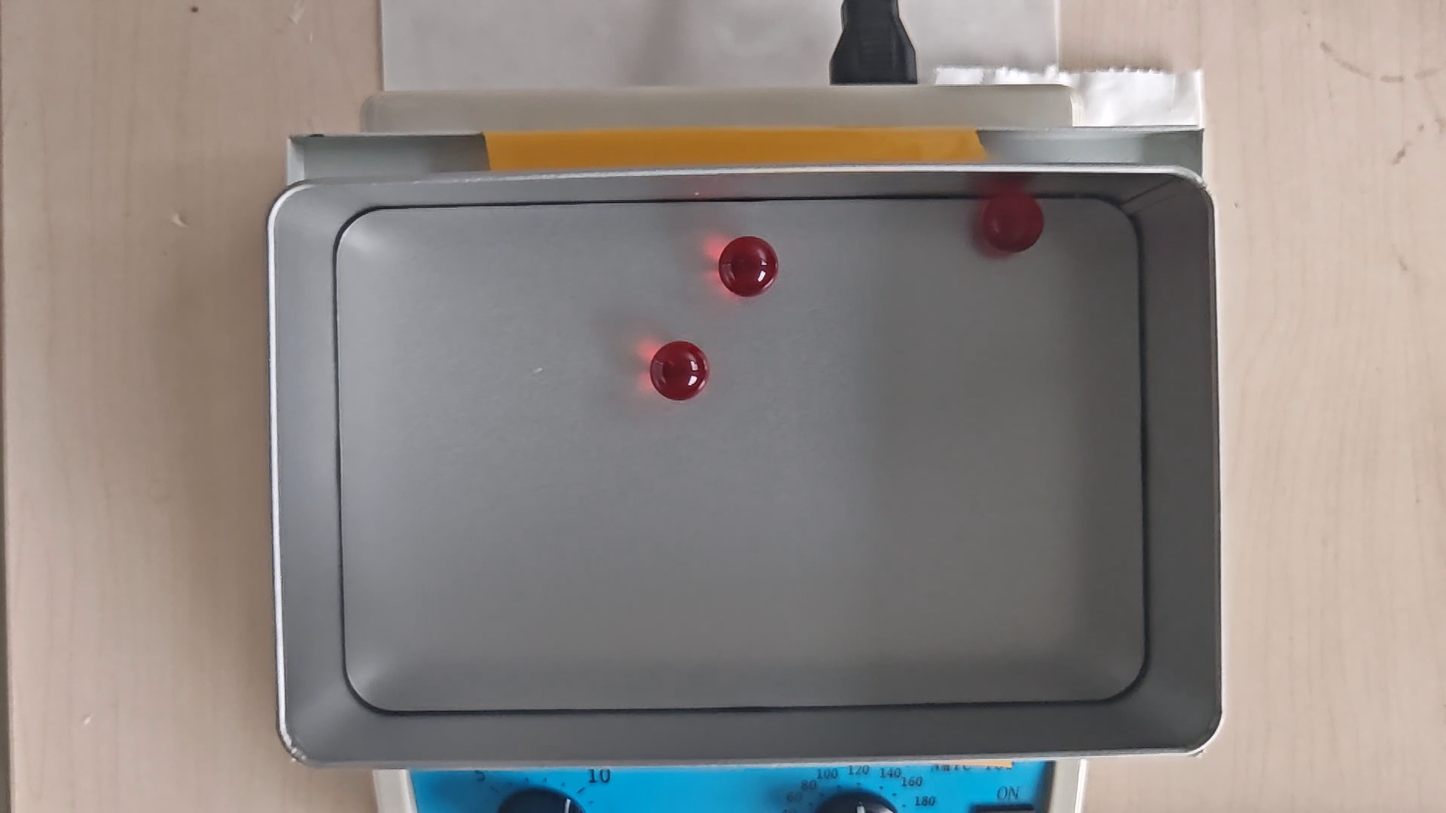ball: (984, 187, 1043, 253), (716, 236, 779, 297), (650, 340, 709, 403)
container: (332, 205, 1139, 708)
